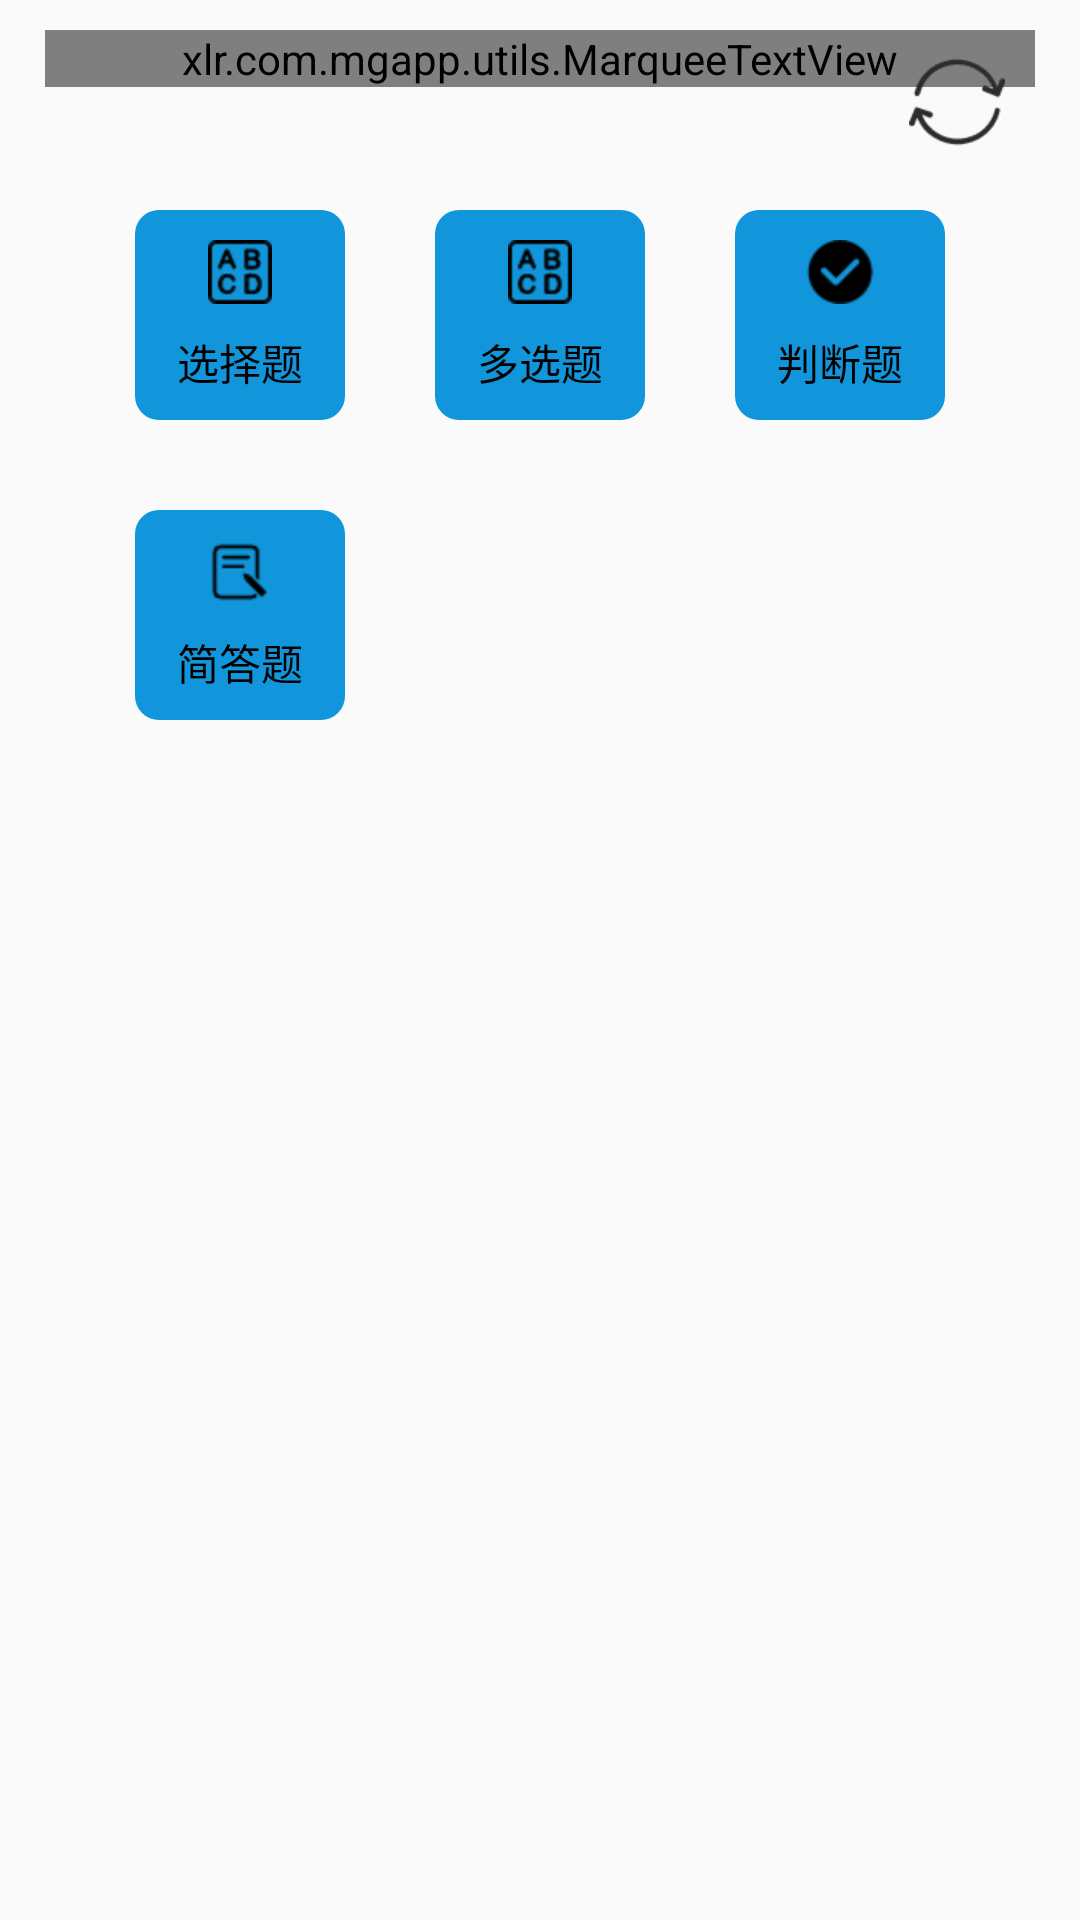

Screen size 1080×1920. Icon name, then its center in pixels as (x,y):
frash: (957,102)
